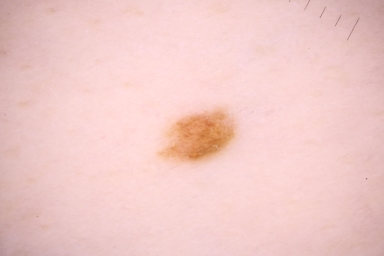nevus: (155, 110, 235, 164)
